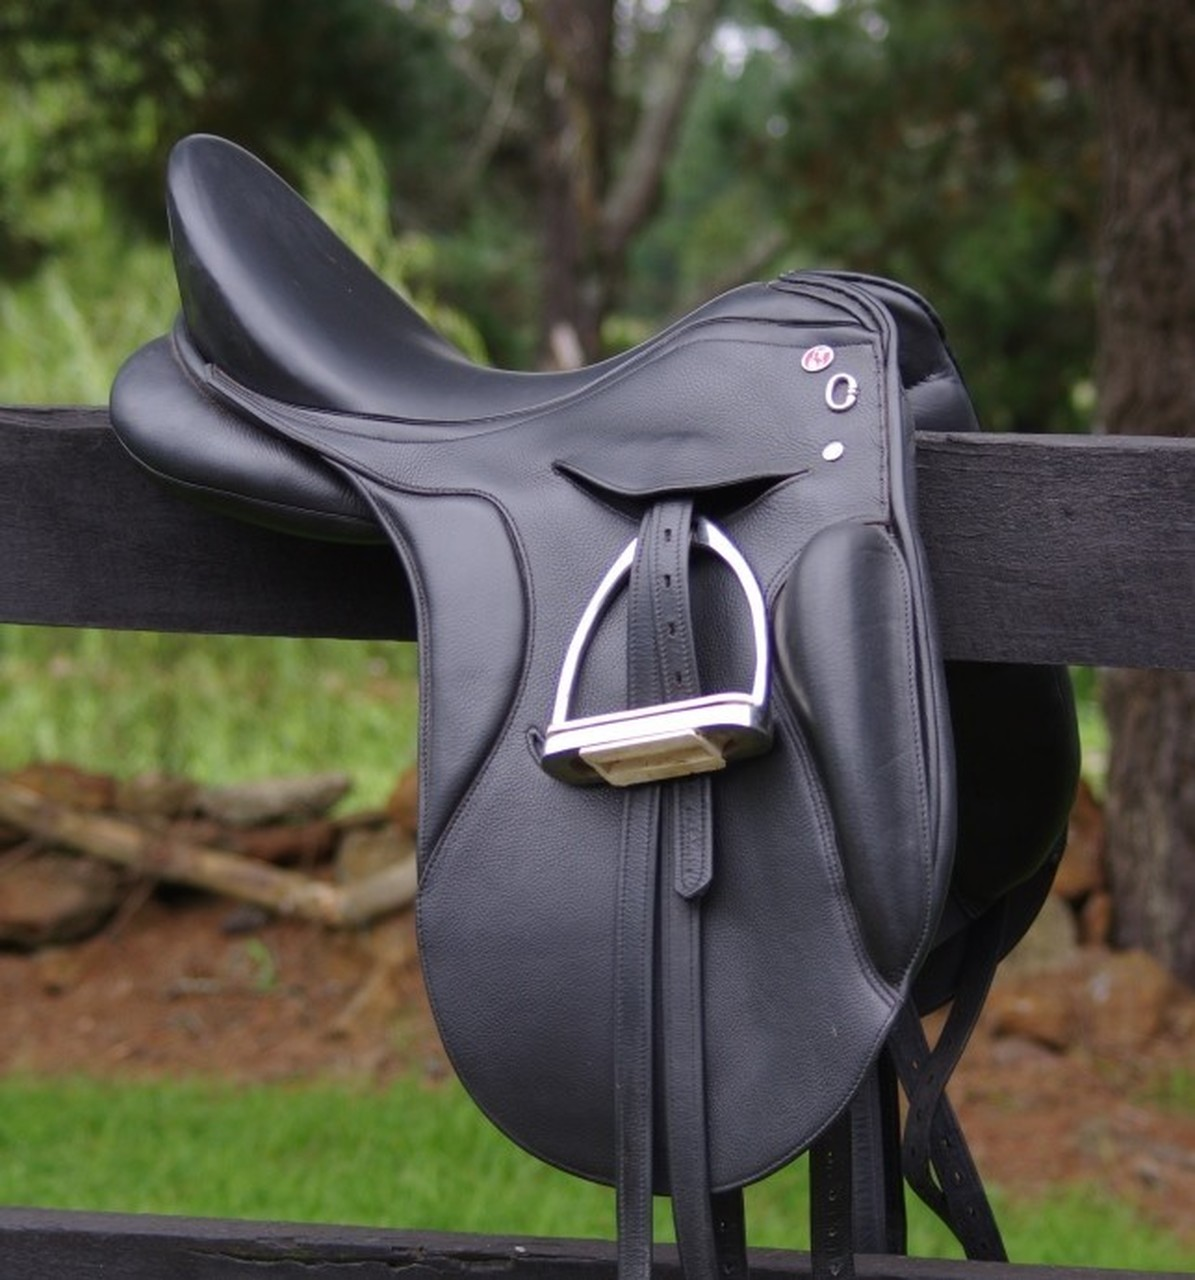saddle: (126, 132, 991, 1063)
